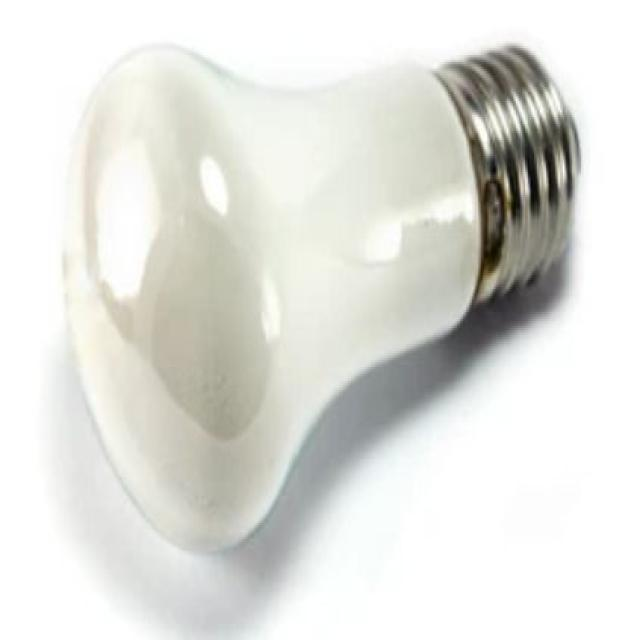electronic: (59, 35, 581, 555)
